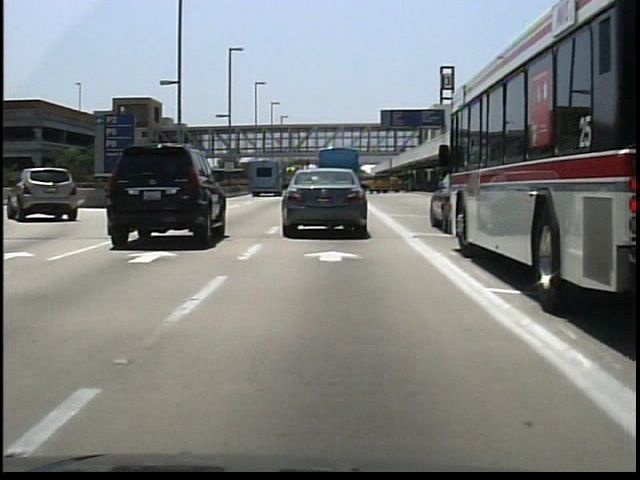person: (390, 136, 403, 158), (362, 136, 375, 156)
